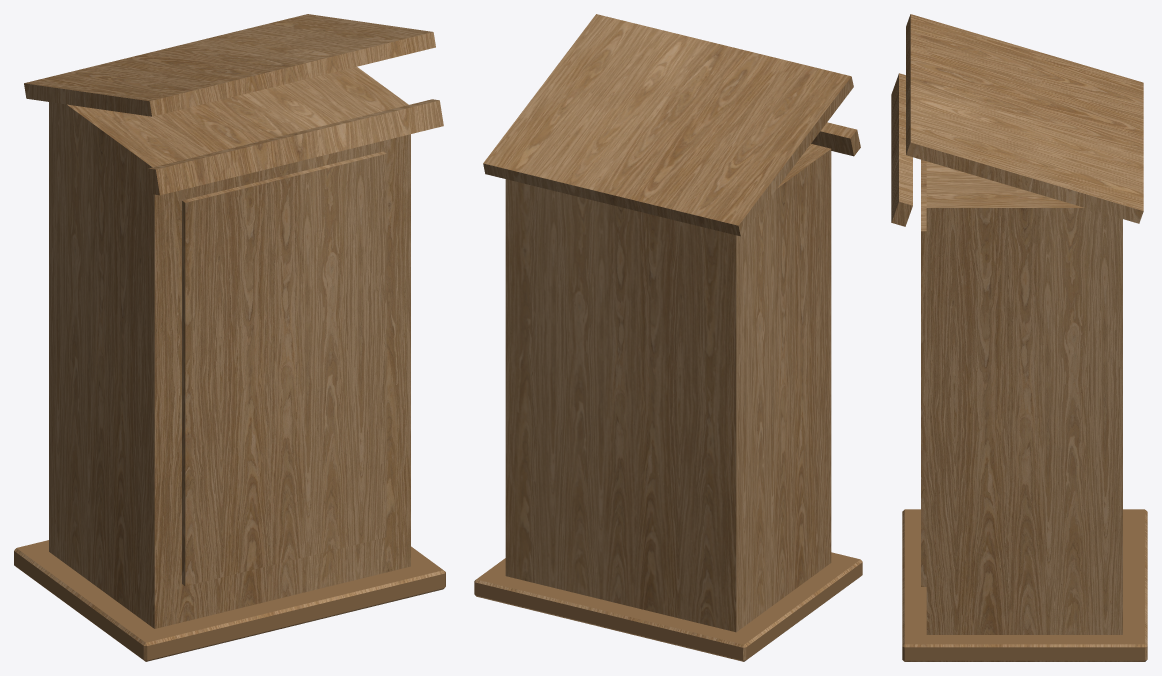
The model's file is lectern.glb.
3 views of the same model, side by side, from view 1: azimuth 30°, elevation 25°; view 2: azimuth 150°, elevation 25°; view 3: azimuth 270°, elevation 25° (orthographic). The views are drawn at different scales.
Visible parts, largest first — view 1: lectern; view 2: lectern; view 3: lectern.
Part boxes in pixels (left/top/right/bottom): lectern: left=14, top=14, right=445, bottom=661; lectern: left=474, top=14, right=862, bottom=661; lectern: left=891, top=14, right=1147, bottom=661.
Size of the model in its own units: 0.66 by 1.16 by 0.522.
1 material, 1 textured.
